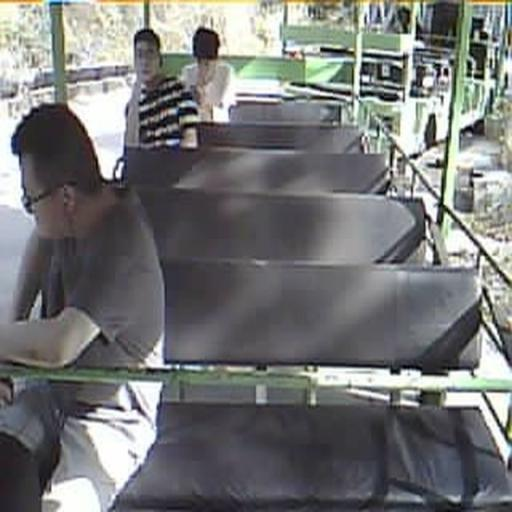persona: (0, 101, 167, 510), (122, 27, 200, 154), (178, 25, 236, 122)
